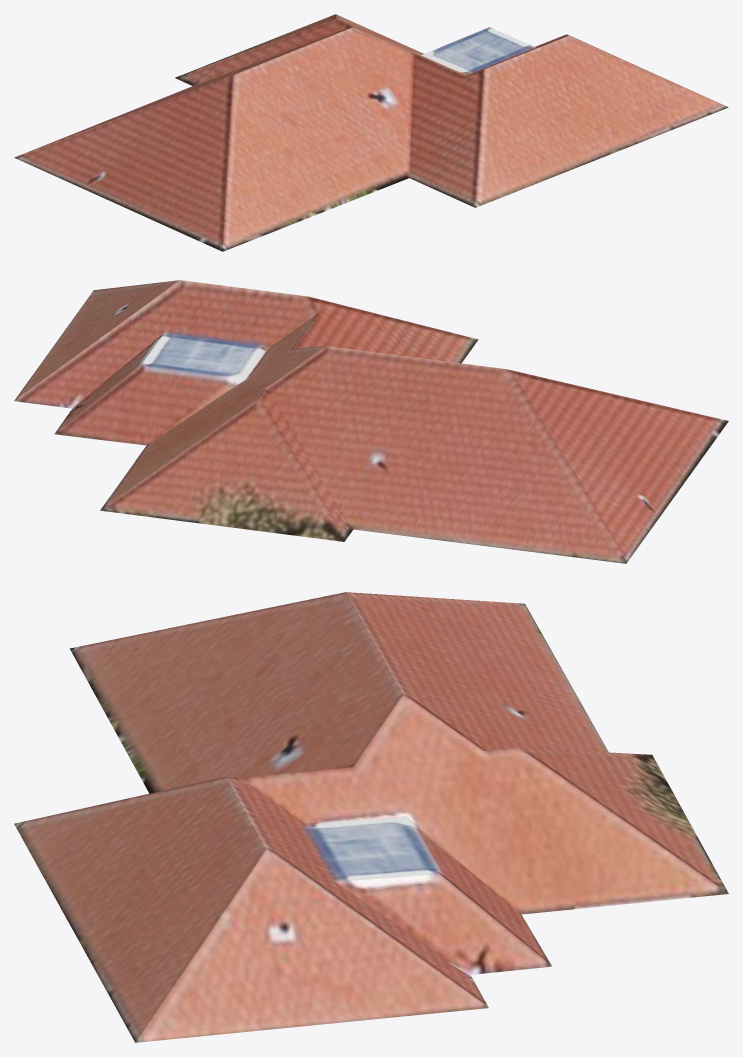
The model's file is BK39_500_012030_0050_roof.obj.
3 renders of one model, top to bottom at view 1: azimuth 30°, elevation 25°; view 2: azimuth 150°, elevation 25°; view 3: azimuth 270°, elevation 25°, orthographic. The views are drawn at different scales.
Visible parts, largest first — view 1: BK39_500_012030_0050_roof; view 2: BK39_500_012030_0050_roof; view 3: BK39_500_012030_0050_roof.
Part boxes in pixels (<box>): BK39_500_012030_0050_roof: <box>14,14,728,251</box>; BK39_500_012030_0050_roof: <box>14,280,728,563</box>; BK39_500_012030_0050_roof: <box>14,592,728,1042</box>.
Bounding box in the file's own units: 499 × 70 × 343.
1 material, 1 textured.
